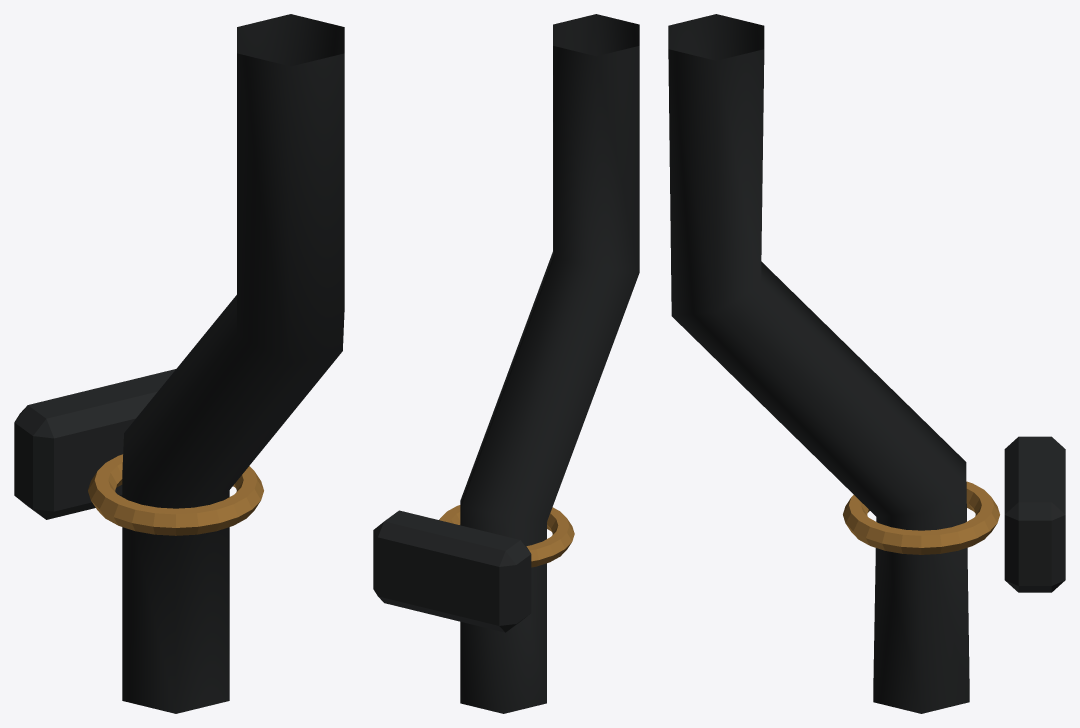
The model's file is DrainpipeOffset.glb.
3 views of the same model, side by side, from view 1: azimuth 30°, elevation 25°; view 2: azimuth 150°, elevation 25°; view 3: azimuth 270°, elevation 25° (orthographic). The views are drawn at different scales.
Parts seen in each view (by area): view 1: BlackIronDrainpipe.001, PipeWallBracket.002, PipeCollar.002; view 2: BlackIronDrainpipe.001, PipeWallBracket.002, PipeCollar.002; view 3: BlackIronDrainpipe.001, PipeWallBracket.002, PipeCollar.002.
Boxes of the visible parts, x1=… form: BlackIronDrainpipe.001: x1=122, y1=14, x2=344, y2=713; PipeWallBracket.002: x1=14, y1=369, x2=175, y2=519; PipeCollar.002: x1=88, y1=454, x2=263, y2=535; BlackIronDrainpipe.001: x1=460, y1=14, x2=639, y2=713; PipeWallBracket.002: x1=373, y1=510, x2=531, y2=632; PipeCollar.002: x1=439, y1=505, x2=574, y2=567; BlackIronDrainpipe.001: x1=668, y1=14, x2=969, y2=713; PipeWallBracket.002: x1=1004, y1=436, x2=1065, y2=592; PipeCollar.002: x1=843, y1=481, x2=999, y2=554.
Size of the model in its own units: 0.33 by 1.3 by 0.7166.
